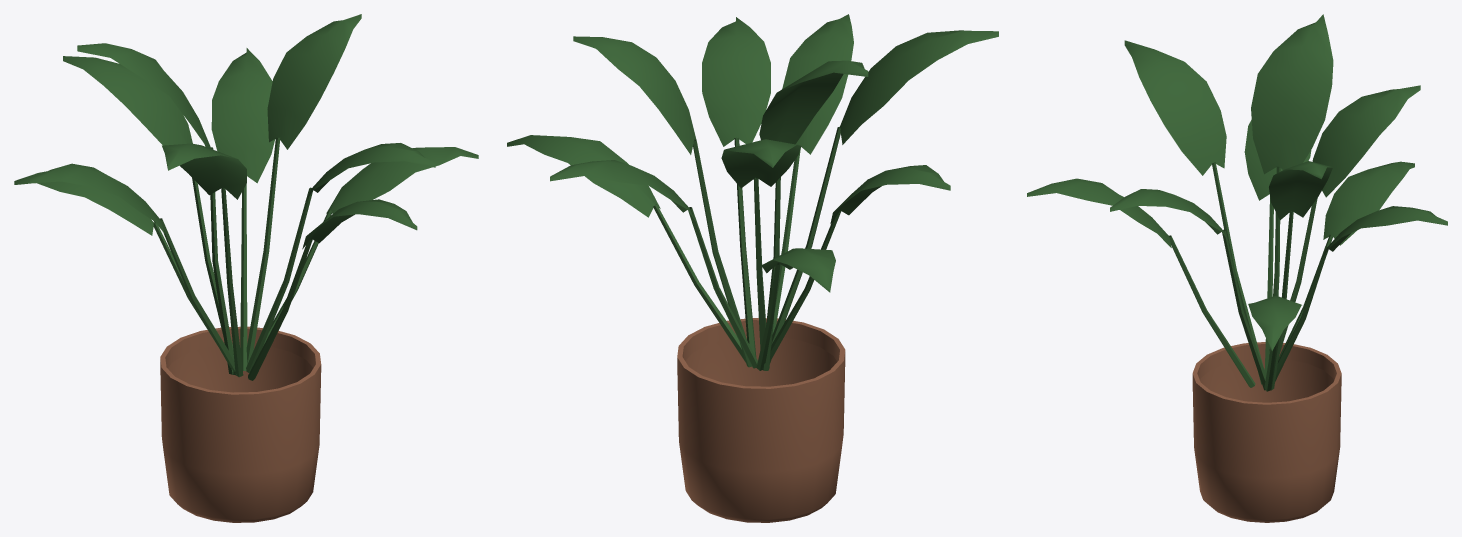
The model's file is decor_b_plant_floor_b.gltf.
The picture shows the model from 3 angles, left to right: view 1: azimuth 30°, elevation 25°; view 2: azimuth 150°, elevation 25°; view 3: azimuth 270°, elevation 25°; orthographic projection. The views are drawn at different scales.
Visible parts, largest first — view 1: DecorBPlantFloorB_Leaf_NoCollide, DecorBPlantFloorB_Terracotta; view 2: DecorBPlantFloorB_Leaf_NoCollide, DecorBPlantFloorB_Terracotta; view 3: DecorBPlantFloorB_Leaf_NoCollide, DecorBPlantFloorB_Terracotta.
Boxes of the visible parts, x1=… form: DecorBPlantFloorB_Leaf_NoCollide: x1=14, y1=14, x2=478, y2=380; DecorBPlantFloorB_Terracotta: x1=160, y1=326, x2=321, y2=522; DecorBPlantFloorB_Leaf_NoCollide: x1=507, y1=14, x2=998, y2=370; DecorBPlantFloorB_Terracotta: x1=677, y1=318, x2=845, y2=522; DecorBPlantFloorB_Leaf_NoCollide: x1=1027, y1=14, x2=1447, y2=391; DecorBPlantFloorB_Terracotta: x1=1192, y1=342, x2=1341, y2=522.
Bounding box in the file's own units: 1.49 × 1.5 × 1.35.
